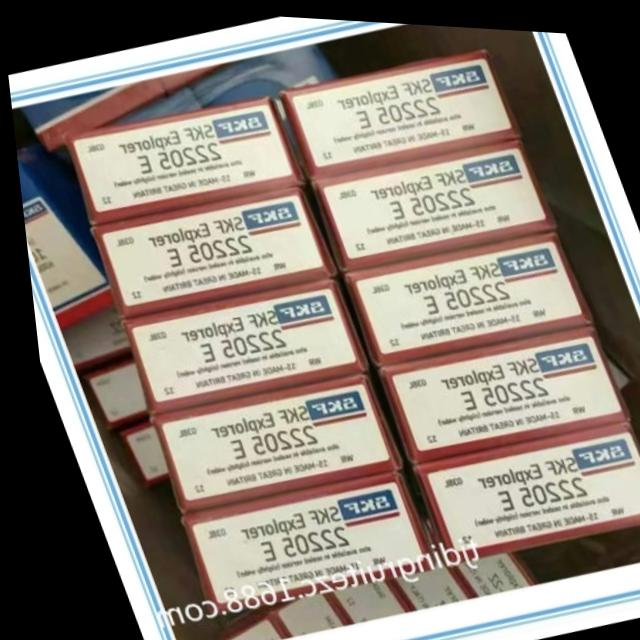box: (170, 463, 424, 611), (335, 218, 588, 362), (143, 366, 390, 513), (112, 272, 363, 416), (369, 317, 623, 458), (400, 413, 640, 559), (87, 177, 334, 315), (303, 131, 549, 266), (277, 42, 516, 174), (64, 95, 300, 222), (18, 62, 220, 157), (13, 141, 105, 330), (67, 351, 138, 433), (94, 413, 161, 487), (55, 305, 122, 374), (246, 588, 335, 637), (372, 560, 462, 605), (313, 575, 401, 620), (436, 545, 523, 590), (198, 601, 271, 640)
